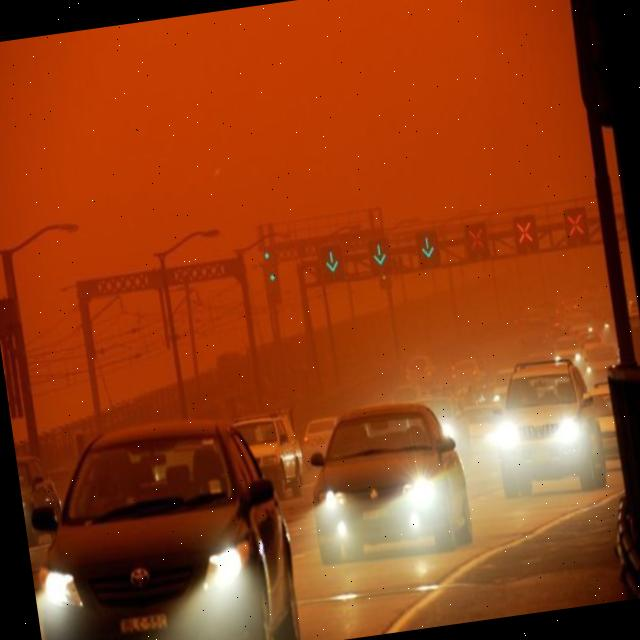car: (26, 408, 299, 640), (292, 398, 478, 576), (484, 350, 610, 503), (234, 411, 308, 504), (16, 448, 72, 544), (416, 391, 474, 462), (457, 400, 506, 463), (300, 416, 344, 470), (584, 345, 622, 384), (401, 352, 438, 384), (551, 336, 584, 370), (448, 359, 486, 388)
